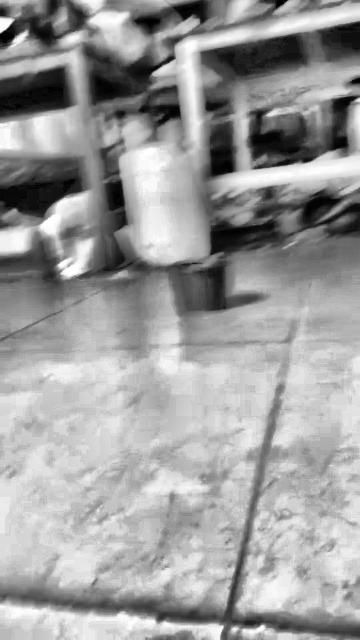pot: (173, 253, 229, 312)
